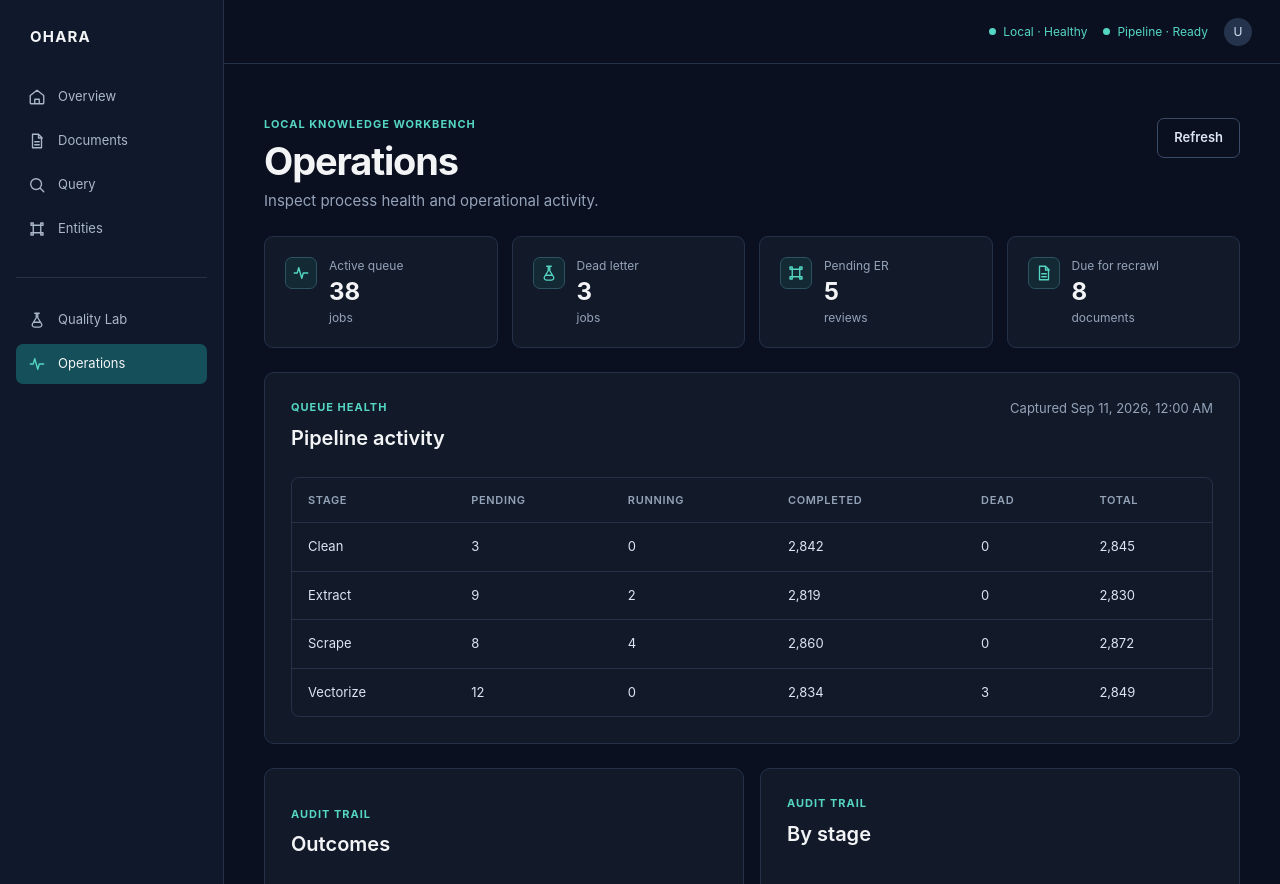
Test: App shell › runs a grounded query and renders citations
Click the link "Query". click: click(62, 184)
box: [28,176,96,194]
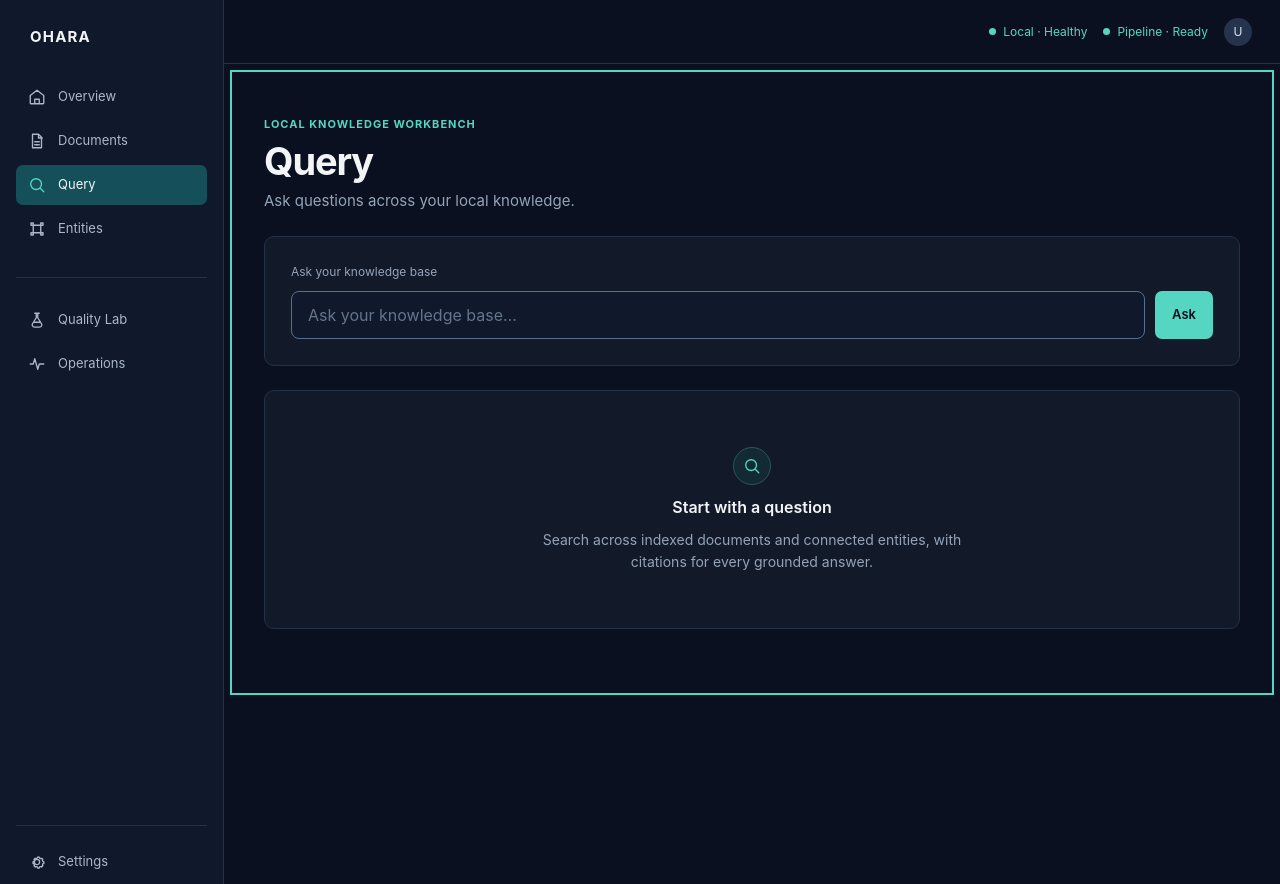
Expected: the heading "Start with a question" is shown, [672,495,832,519]
Type "What is Ohara?" into the field labelled "Ask your knowledge base". click: (718, 315)
box: [291,291,1145,339]
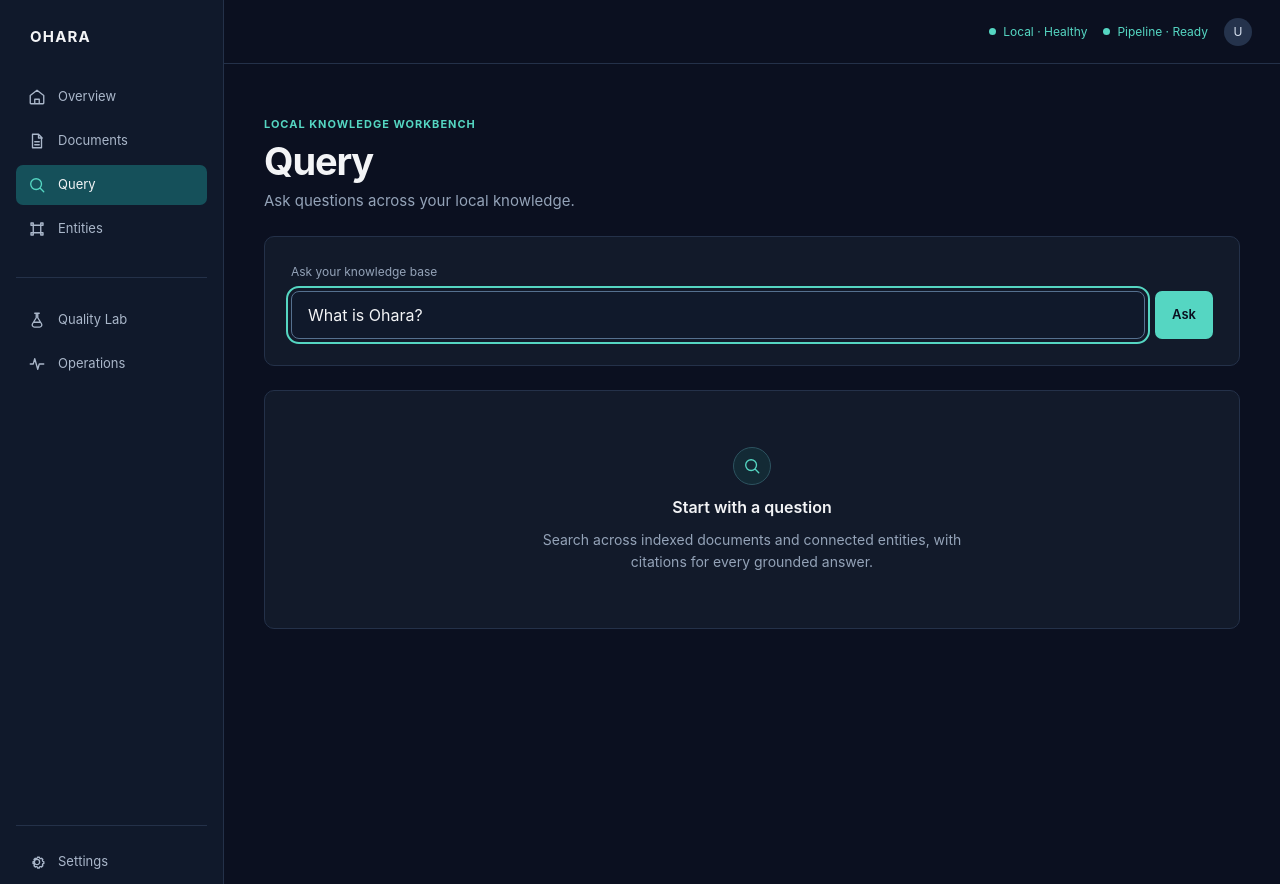
Click the button "Ask". click: click(1184, 315)
box: [1155,291,1213,339]
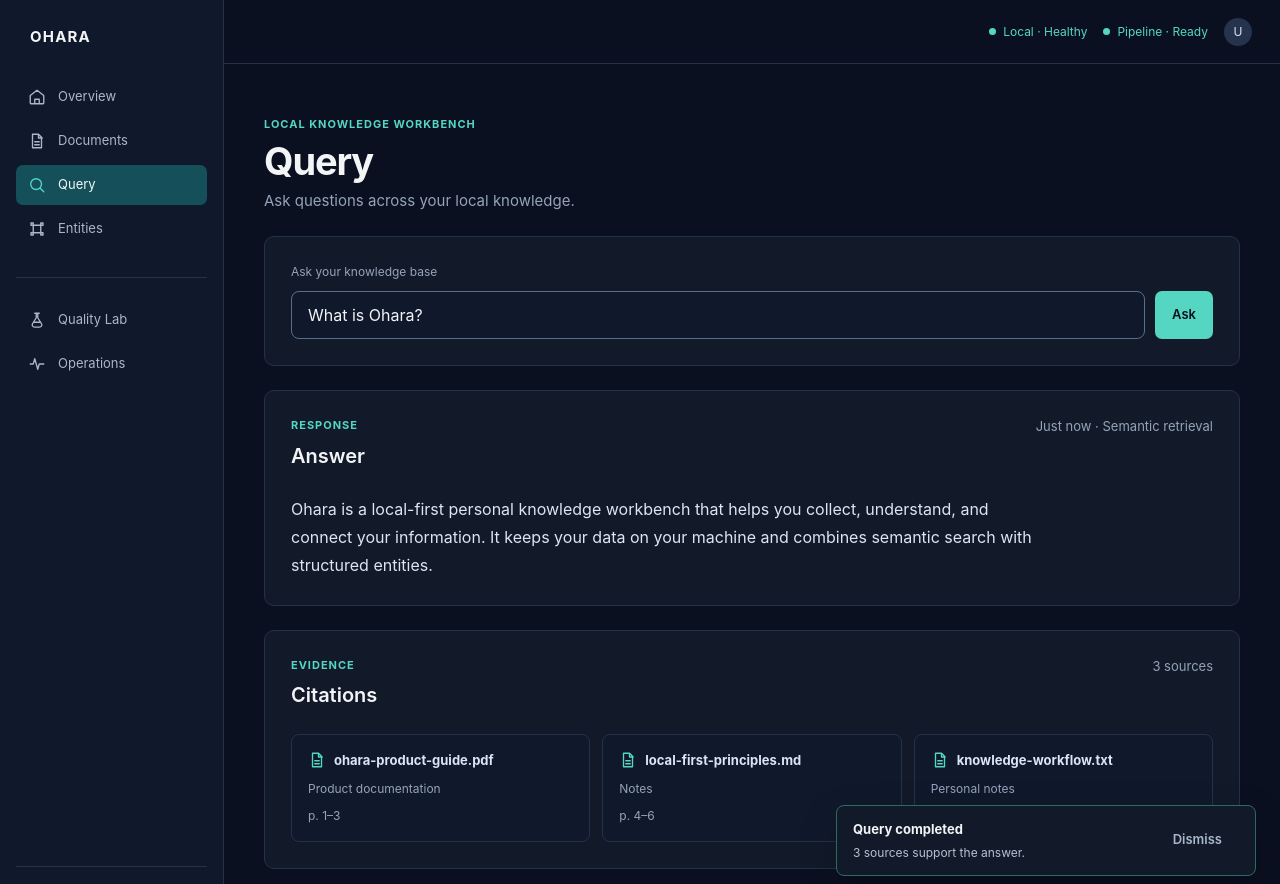
Expected: the heading "Citations" is shown, [291,680,377,710]
Expected: the heading "Answer" is shown, [291,440,365,470]
Expected: the text "ohara-product-guide.pdf" is shown, [334,751,494,770]
